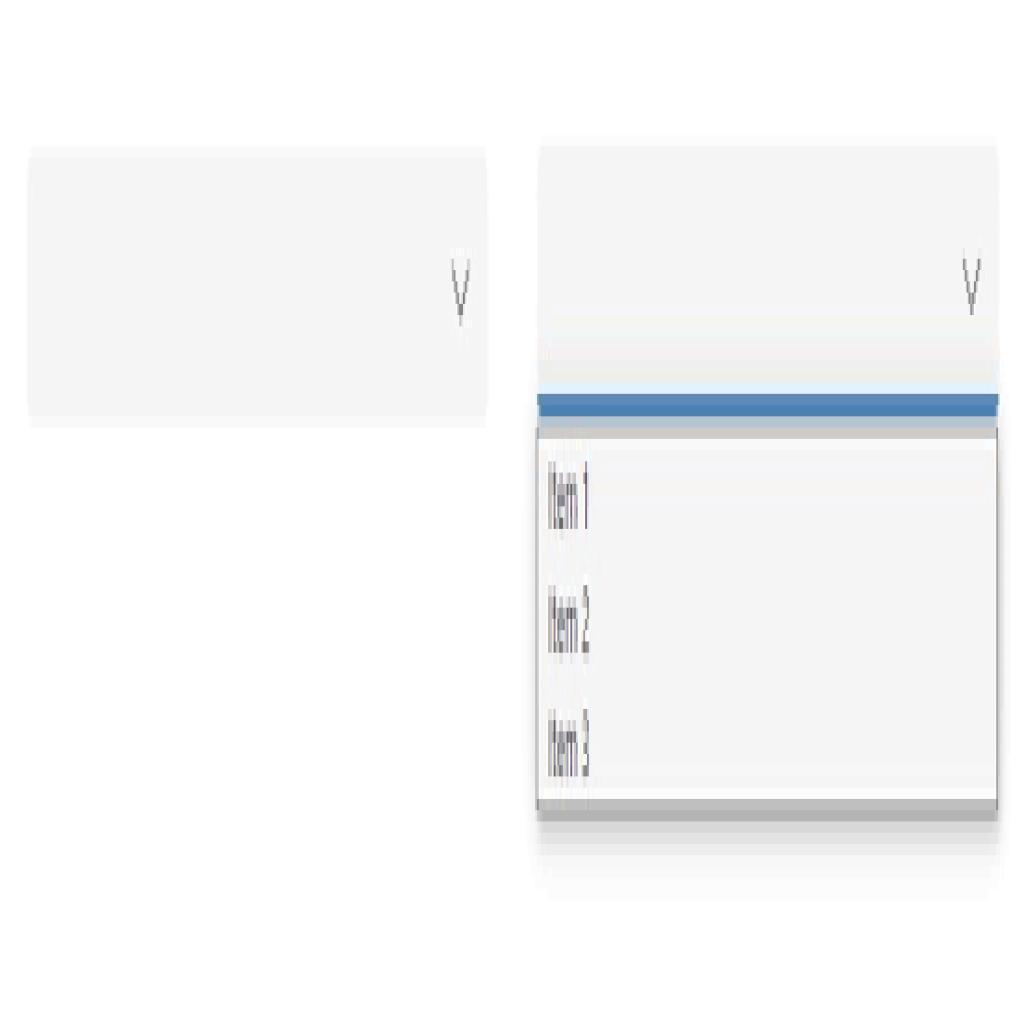dropdown: (27, 147, 497, 433), (534, 139, 997, 401)
